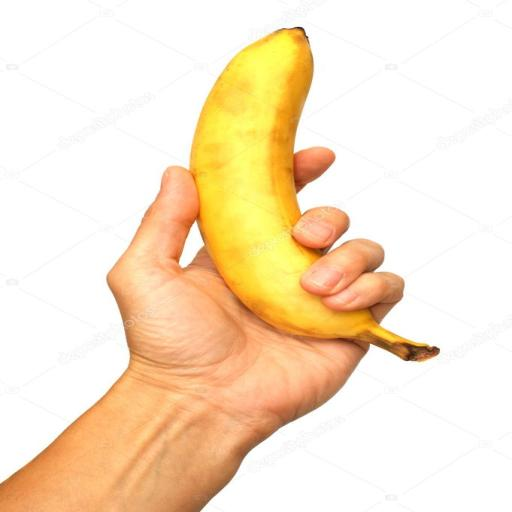banana: (191, 28, 439, 360)
